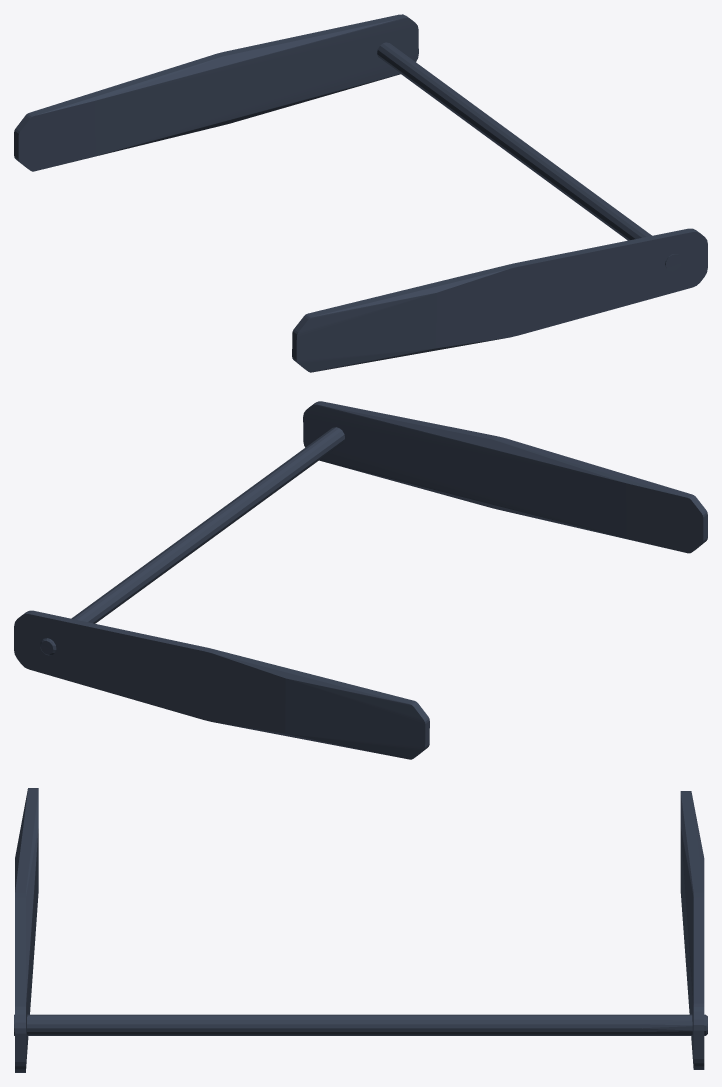
Rendered from hitch.dae.
3 views of the same model, one above another, from view 1: azimuth 30°, elevation 25°; view 2: azimuth 150°, elevation 25°; view 3: azimuth 270°, elevation 25° (orthographic). The views are drawn at different scales.
Parts seen in each view (by area): view 1: hitch_link; view 2: hitch_link; view 3: hitch_link.
Part boxes in pixels (<box>): hitch_link: <box>14,14,707,372</box>; hitch_link: <box>14,401,707,759</box>; hitch_link: <box>14,788,707,1072</box>.
Bounding box in the file's own units: 0.7657 × 0.9665 × 0.1242.
